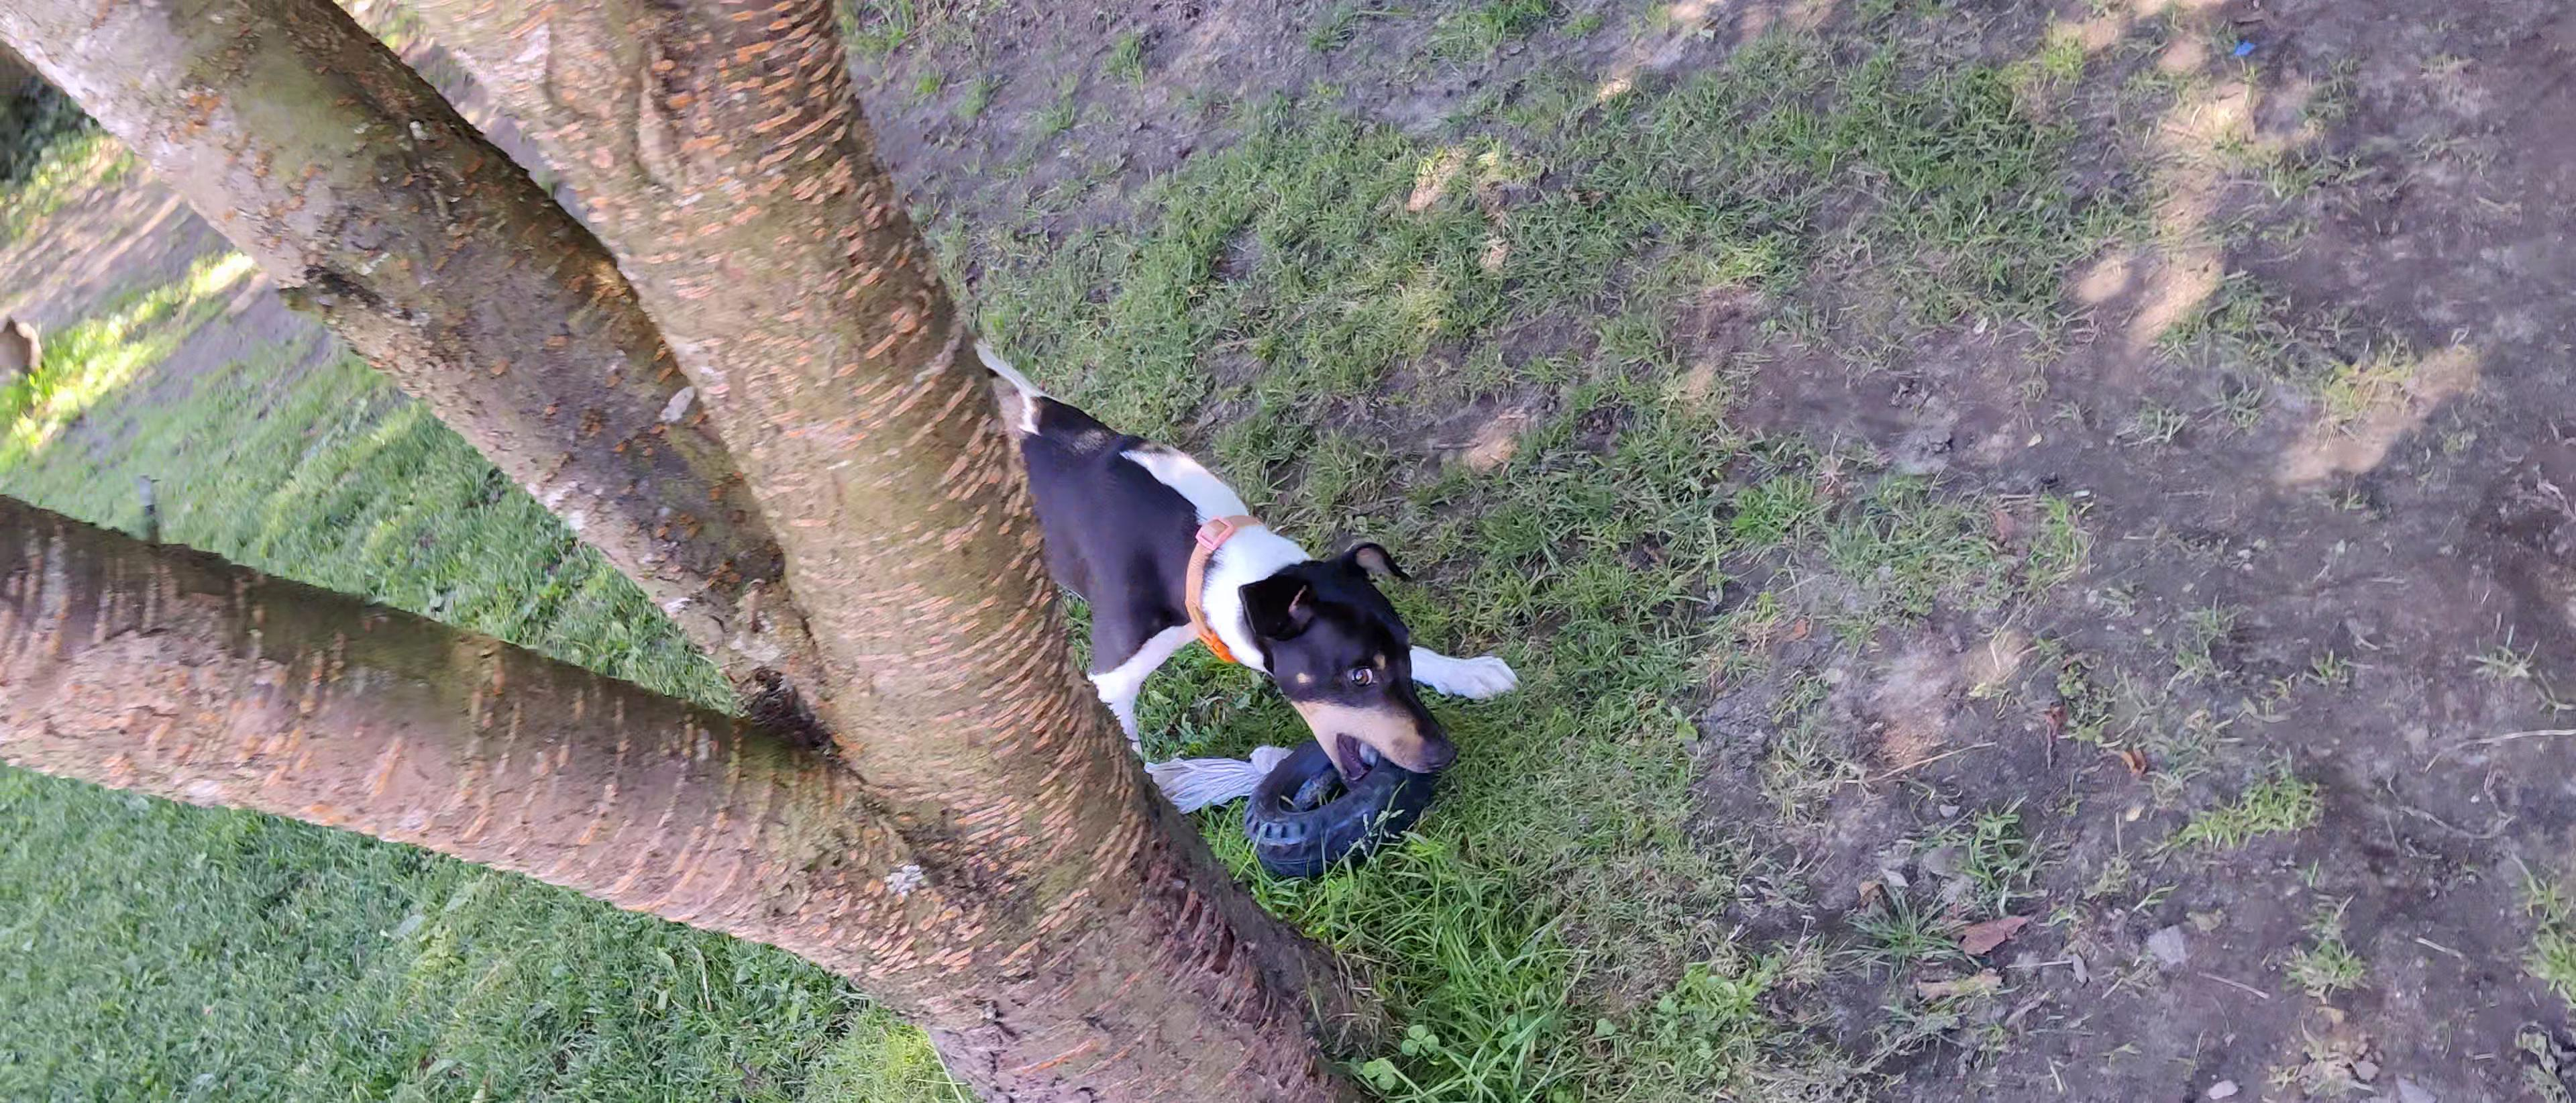Dog: (930, 296, 1525, 820)
